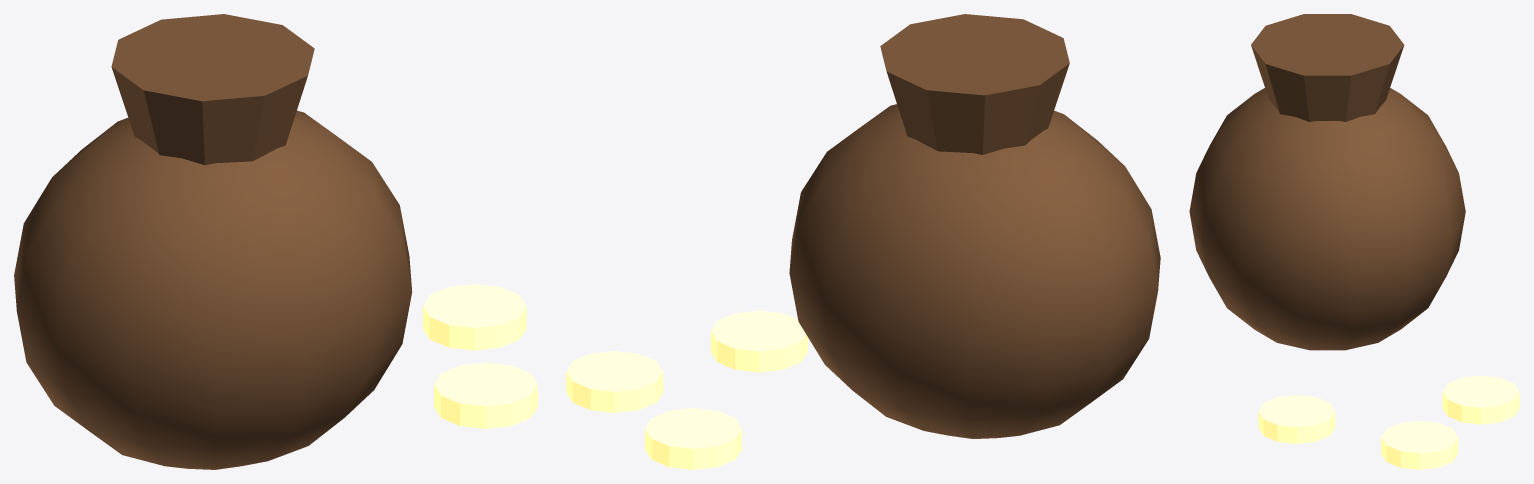
File: Purse.glb
The picture shows the model from 3 angles, left to right: view 1: azimuth 30°, elevation 25°; view 2: azimuth 150°, elevation 25°; view 3: azimuth 270°, elevation 25°; orthographic projection. The views are drawn at different scales.
Visible parts, largest first — view 1: Purse; view 2: Purse; view 3: Purse.
Part boxes in pixels (x1,y1,x2,y2): Purse: (14, 14, 537, 469); Purse: (566, 14, 1160, 469); Purse: (1189, 14, 1519, 469).
Bounding box in the file's own units: 0.3025 × 0.21 × 0.215.
